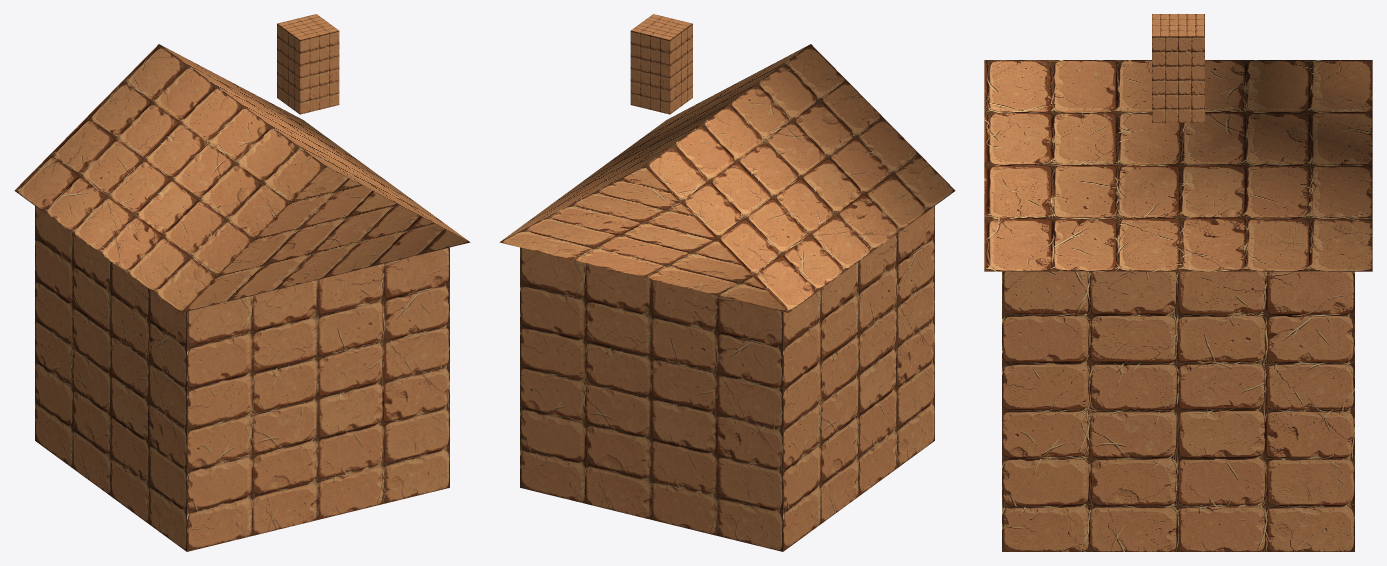
Rendered from distillery.obj.
3 views of the same model, side by side, from view 1: azimuth 30°, elevation 25°; view 2: azimuth 150°, elevation 25°; view 3: azimuth 270°, elevation 25° (orthographic). The views are drawn at different scales.
Visible parts, largest first — view 1: building; view 2: building; view 3: building.
Part boxes in pixels (<box>): building: <box>14,14,470,551</box>; building: <box>499,14,955,551</box>; building: <box>984,14,1372,551</box>.
Bounding box in the file's own units: 2.2 × 3.06 × 2.2.
